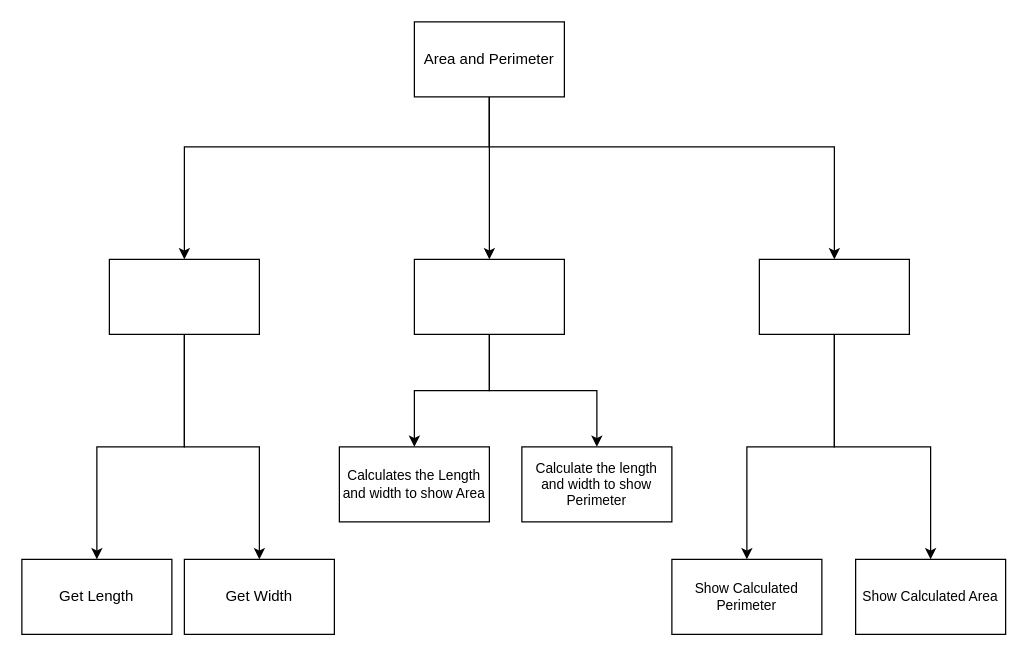
This 1028x656 diagram has some shape labels left out. Each missing label, with the box of its shape:
Input: (108, 258, 259, 334)
Output: (758, 258, 909, 334)
Process: (413, 258, 564, 334)
